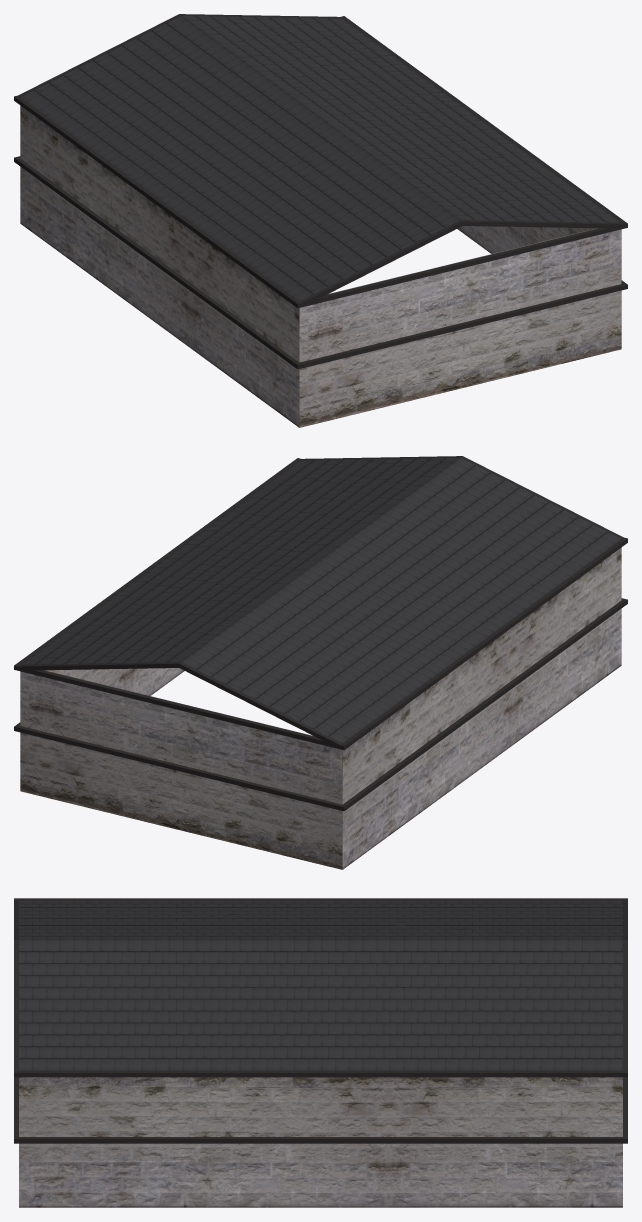
The model's file is mairie.fbx.
3 renders of one model, top to bottom at view 1: azimuth 30°, elevation 25°; view 2: azimuth 150°, elevation 25°; view 3: azimuth 270°, elevation 25°, orthographic. The views are drawn at different scales.
Visible parts, largest first — view 1: Toit, Mairie; view 2: Toit, Mairie; view 3: Toit, Mairie.
Part boxes in pixels (box(x1,y1,x2,y2)): Toit: box(14, 14, 627, 369); Mairie: box(20, 105, 621, 427); Toit: box(14, 456, 627, 811); Mairie: box(20, 547, 621, 869); Toit: box(14, 898, 627, 1143); Mairie: box(19, 1077, 622, 1207).
Size of the model in its own units: 82 by 40 by 122.
